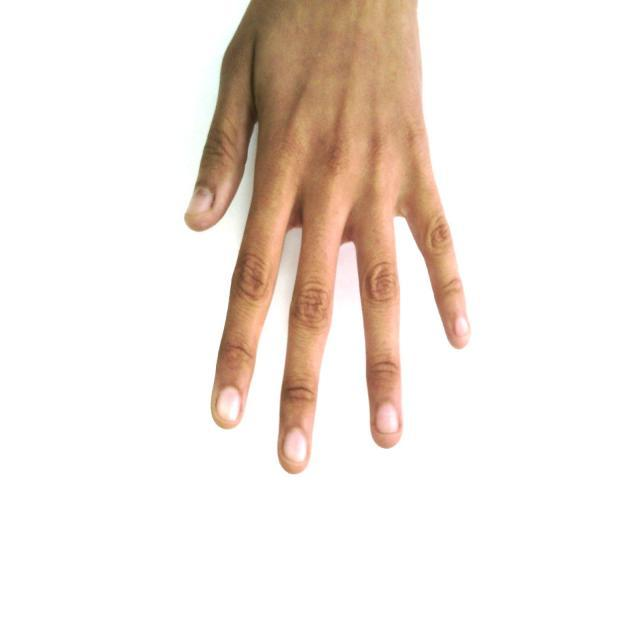Fingernail: (284, 429, 307, 463), (218, 387, 240, 420), (187, 189, 212, 217), (377, 405, 398, 433), (455, 317, 470, 337)
